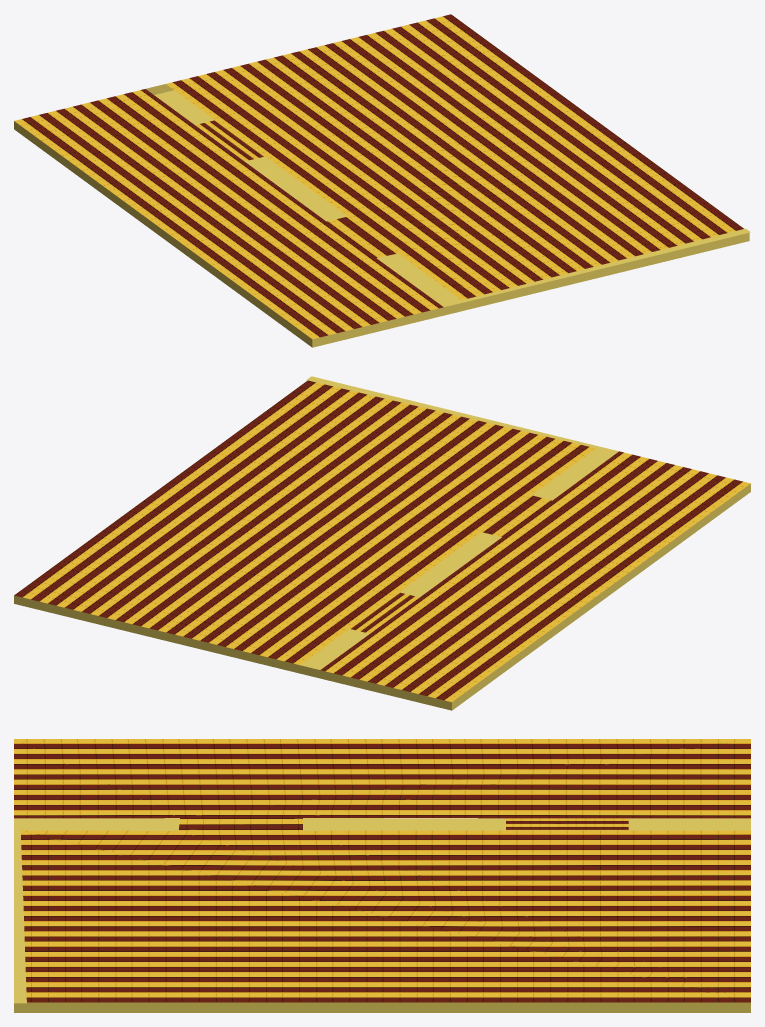
The model's file is Seconf Floor Floor.fbx.
The picture shows the model from 3 angles, top to bottom: view 1: azimuth 30°, elevation 25°; view 2: azimuth 150°, elevation 25°; view 3: azimuth 270°, elevation 25°; orthographic projection. The views are drawn at different scales.
Parts seen in each view (by area): view 1: polySurface801; view 2: polySurface801; view 3: polySurface801.
Boxes of the visible parts, x1,y1,x2,y2 form: polySurface801: (14, 14, 750, 347); polySurface801: (14, 376, 750, 710); polySurface801: (14, 739, 750, 1012).
Size of the model in its own units: 2365 by 43.58 by 2787.
Materials: 1 (1 with a texture image).
